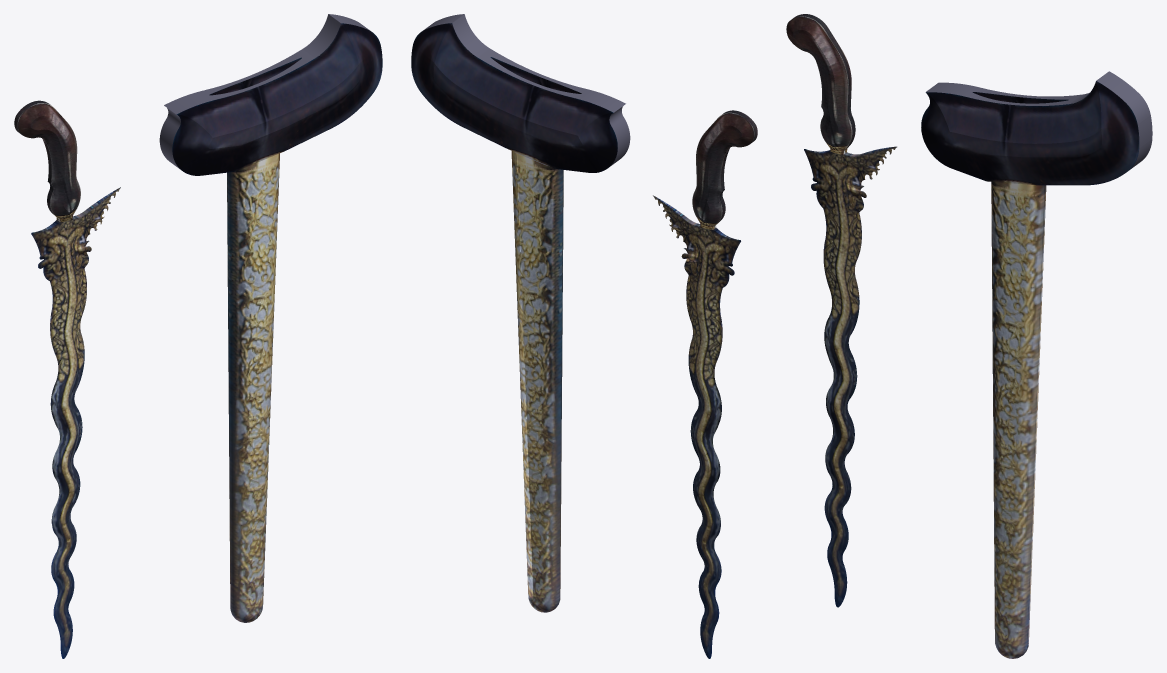
File: jawa_keris.glb
The picture shows the model from 3 angles, left to right: view 1: azimuth 30°, elevation 25°; view 2: azimuth 150°, elevation 25°; view 3: azimuth 330°, elevation 25°; orthographic projection. The views are drawn at different scales.
Parts seen in each view (by area): view 1: Object_5, Object_3, Object_2; view 2: Object_5, Object_3, Object_2; view 3: Object_5, Object_3, Object_2.
Part boxes in pixels (x1,y1,x2,y2): Object_5: (31,23,382,658); Object_3: (14,100,80,222); Object_2: (159,14,369,169); Object_5: (411,23,740,658); Object_3: (692,110,757,229); Object_2: (423,14,630,166); Object_5: (804,81,1139,658); Object_3: (786,14,855,155); Object_2: (926,71,1152,170).
Size of the model in its own units: 1.25 by 1.97 by 0.1571.
4 materials, 2 textured.
